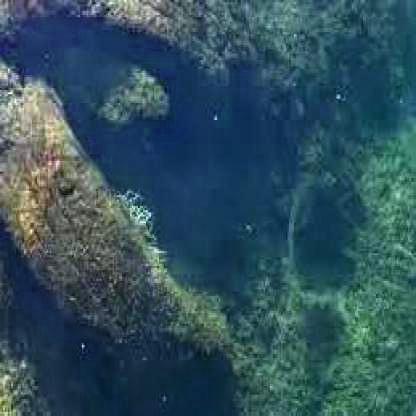tire: (2, 101, 191, 412)
